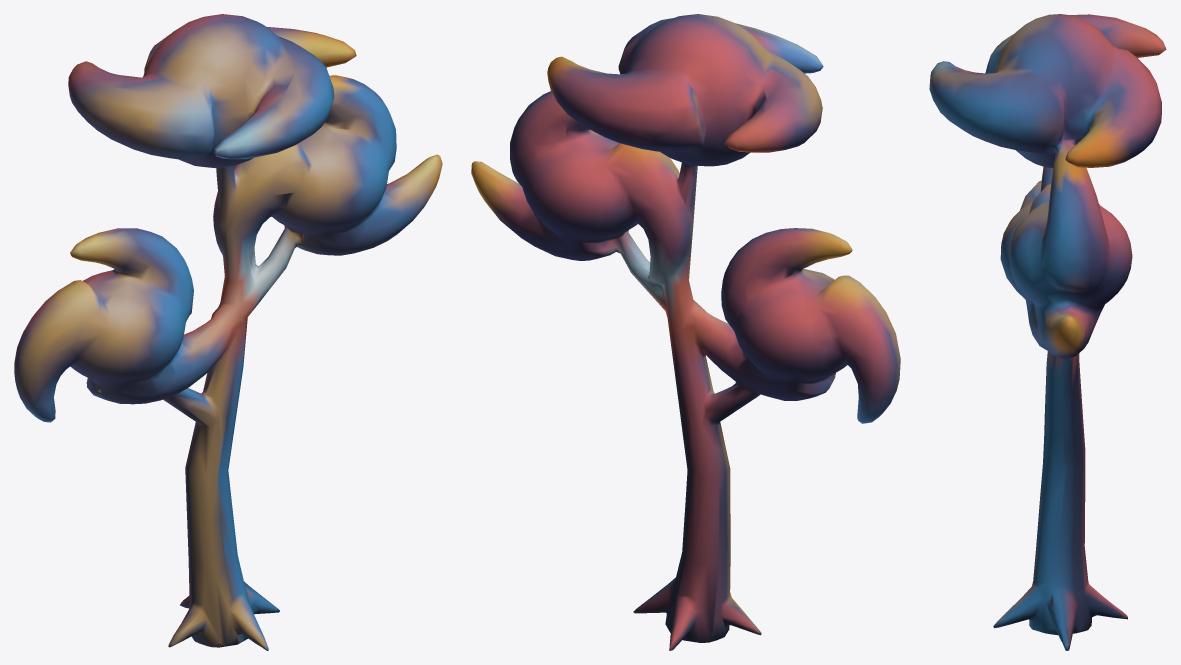
Rendered from Fusion_Tree.glb.
The picture shows the model from 3 angles, left to right: view 1: azimuth 30°, elevation 25°; view 2: azimuth 150°, elevation 25°; view 3: azimuth 270°, elevation 25°; orthographic projection.
Visible parts, largest first — view 1: Fusion_Tree; view 2: Fusion_Tree; view 3: Fusion_Tree.
Boxes of the visible parts, left/top/right/bottom form: Fusion_Tree: left=14, top=14, right=442, bottom=650; Fusion_Tree: left=471, top=14, right=900, bottom=650; Fusion_Tree: left=929, top=14, right=1166, bottom=650.
Bounding box in the file's own units: 9.7 × 13.43 × 4.77.
